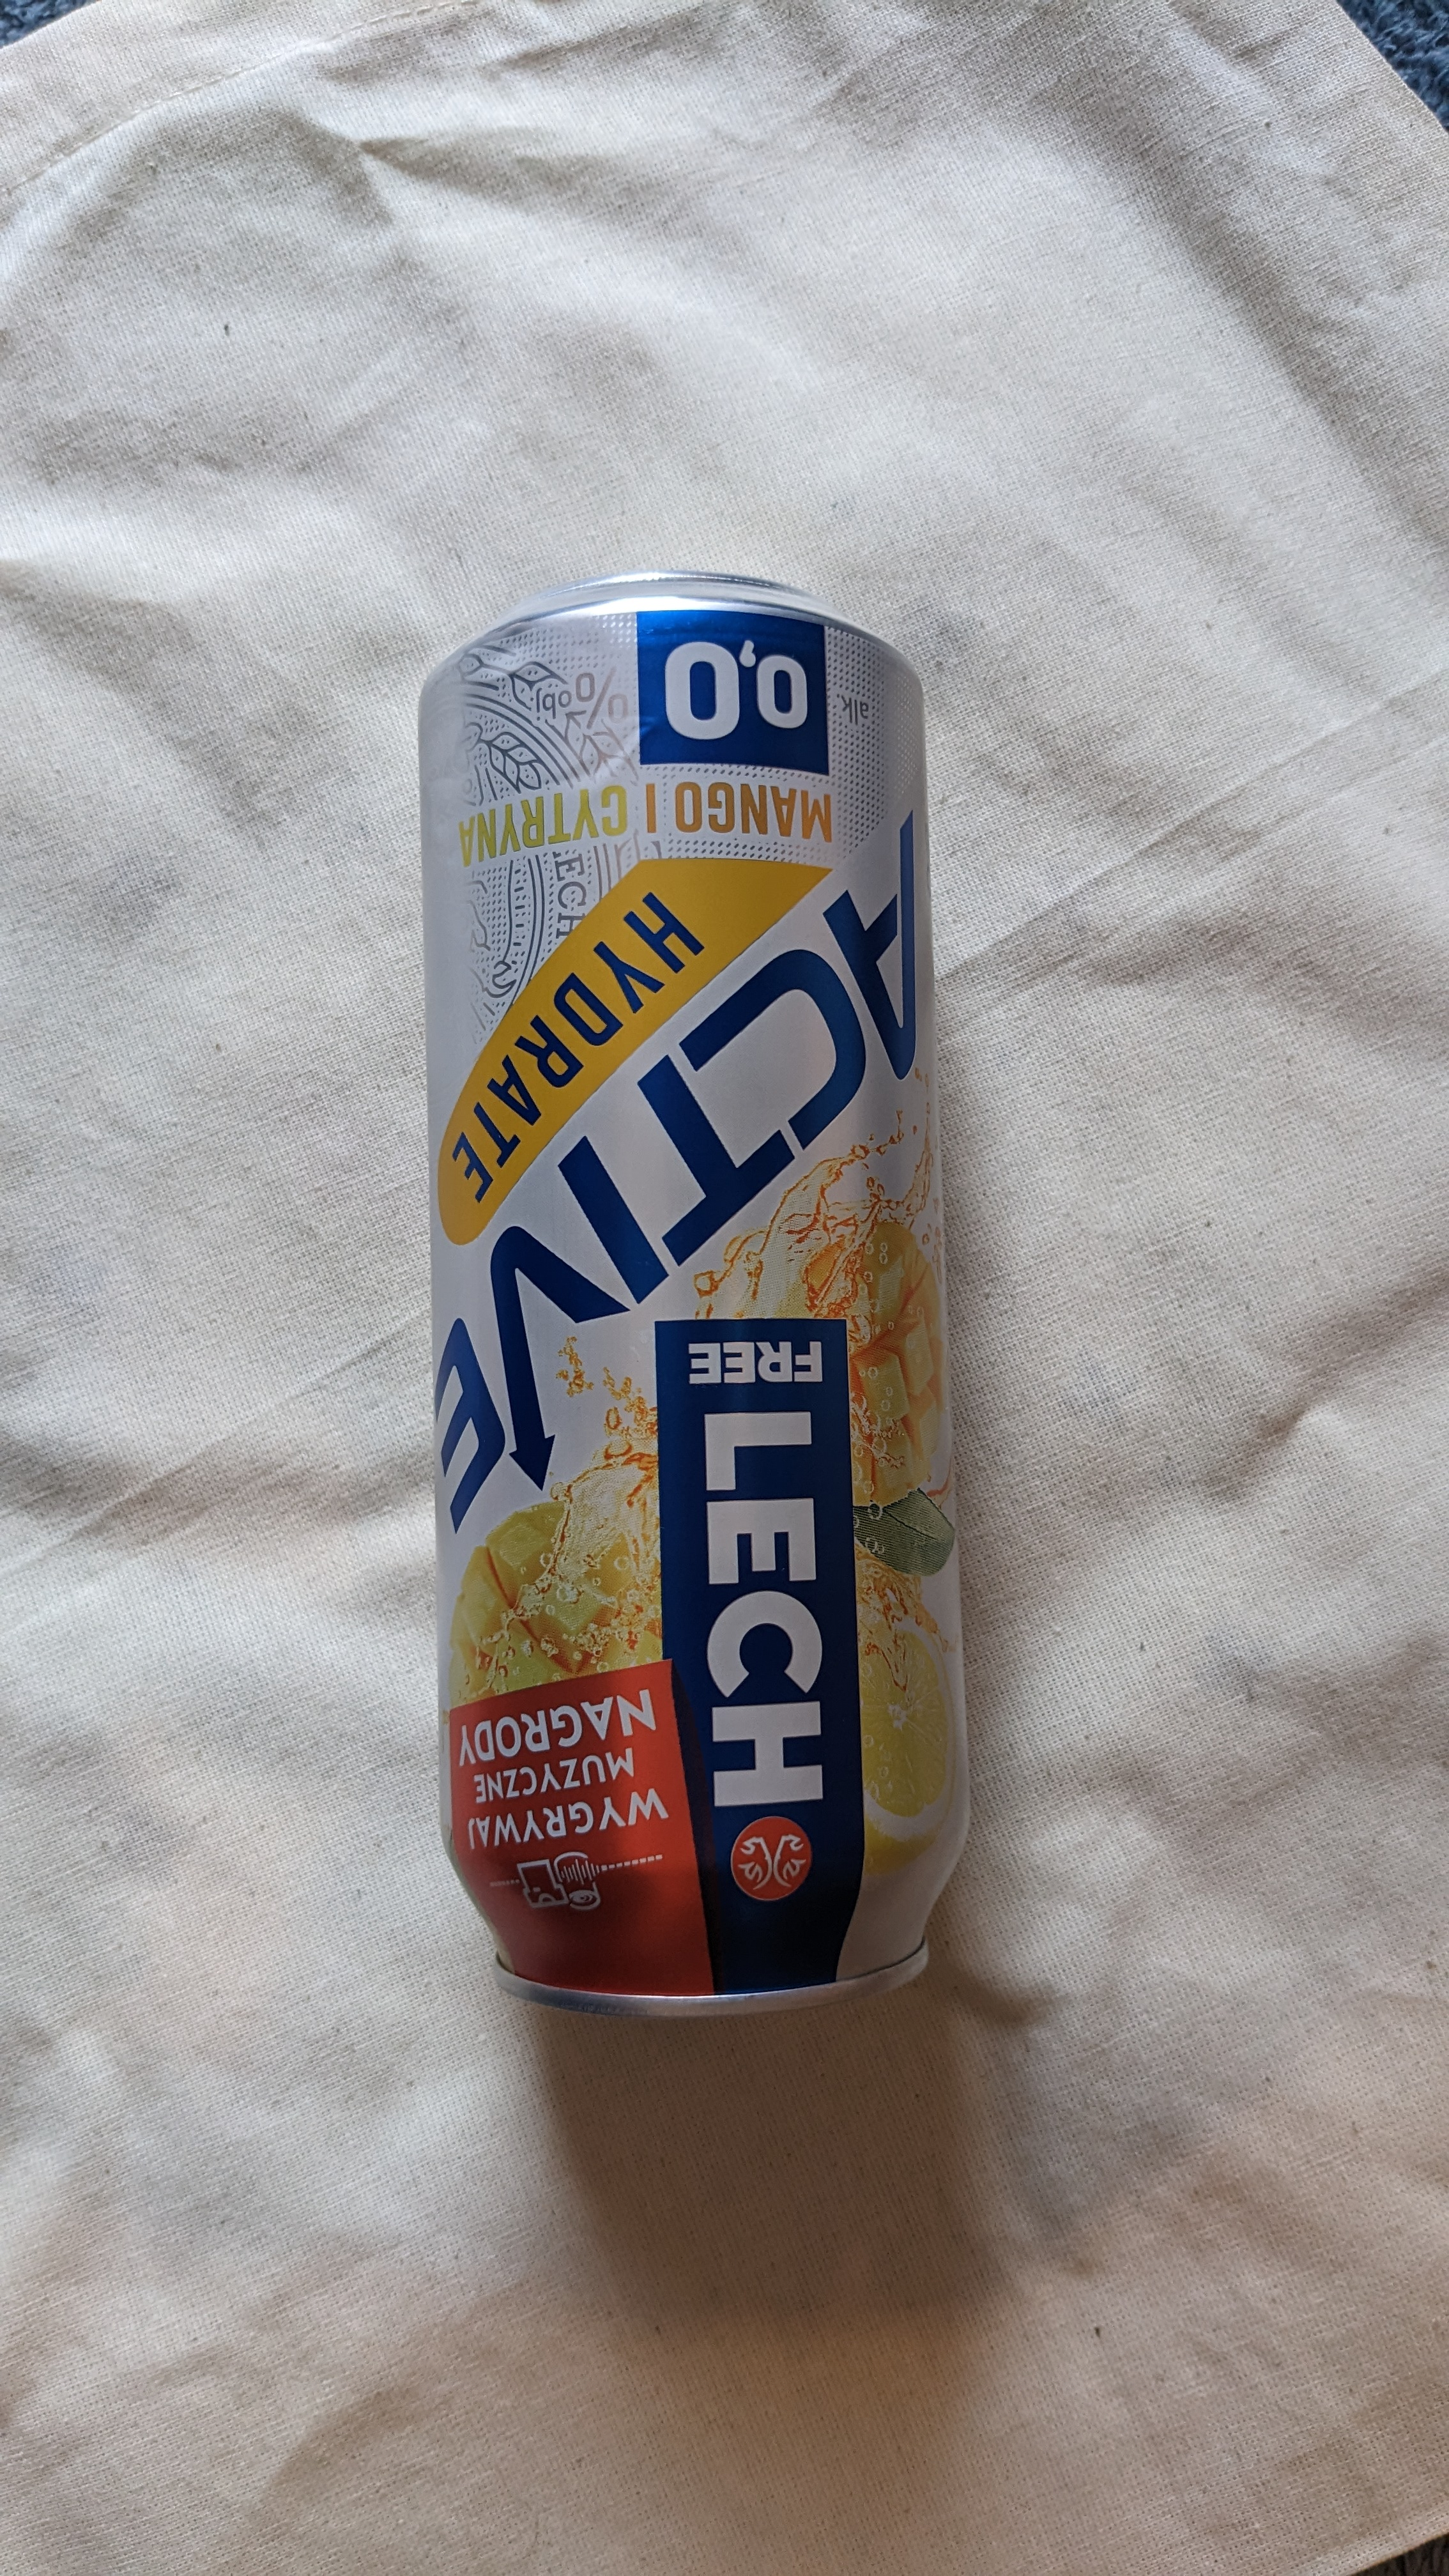lech-active: (372, 545, 1026, 2043)
